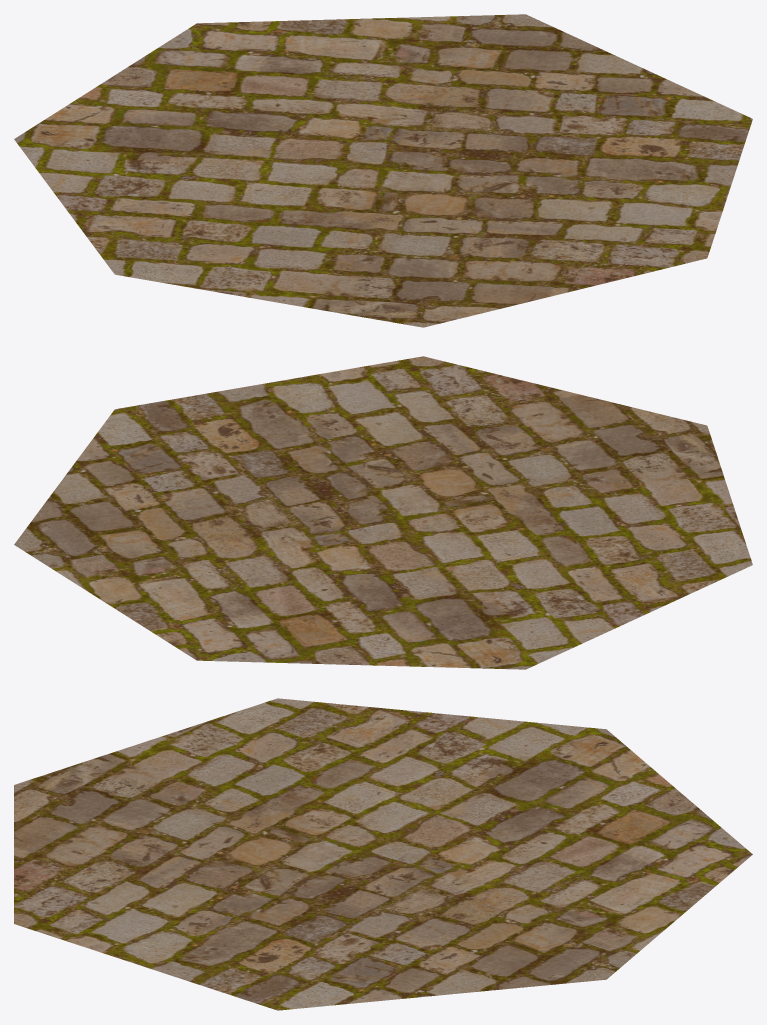
The model's file is Podloga.fbx.
3 views of the same model, one above another, from view 1: azimuth 30°, elevation 25°; view 2: azimuth 150°, elevation 25°; view 3: azimuth 270°, elevation 25° (orthographic).
Visible parts, largest first — view 1: Podloga; view 2: Podloga; view 3: Podloga.
Boxes of the visible parts, bbox=[...] form: Podloga: bbox=[14, 14, 752, 327]; Podloga: bbox=[14, 356, 752, 669]; Podloga: bbox=[14, 698, 752, 1010].
Bounding box in the file's own units: 8 × 2.97e-06 × 8.
